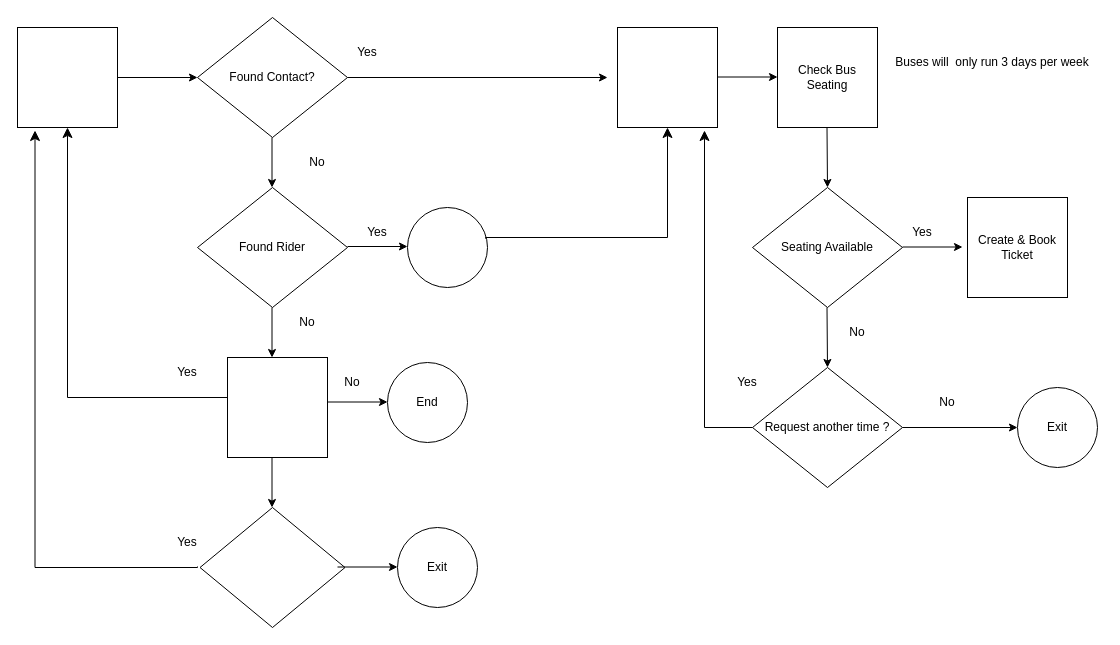
Image size: 1120x645. Some labels were removed from this diagram. The box of each missing label's shape, as (x1, y1, x2, y2) in pixels:
Add New Contact: (199, 506, 345, 628)
Contact Error Screen: (226, 356, 328, 458)
Contact Validation Screen: (16, 26, 118, 128)
Route Request Screen: (616, 26, 718, 128)
